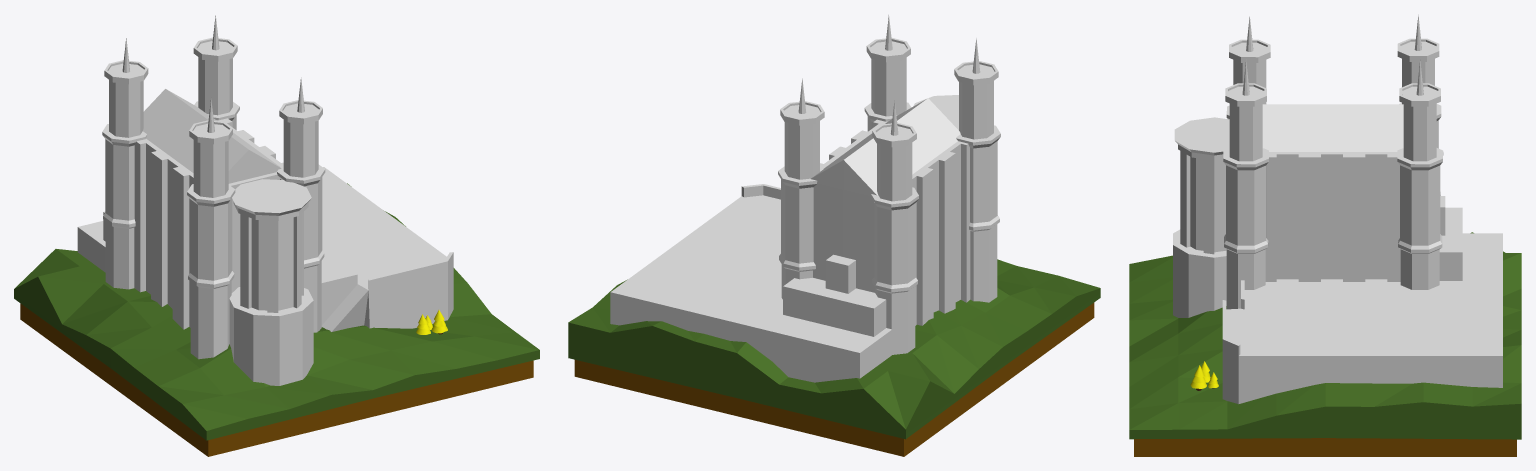
Rendered from fourviere_noplan.glb.
3 renders of one model, left to right at view 1: azimuth 30°, elevation 25°; view 2: azimuth 150°, elevation 25°; view 3: azimuth 270°, elevation 25°, orthographic.
Visible parts, largest first — view 1: Map, Main Tower, Batiment, Tower.001, Tower.003, Tower, Tower.002; view 2: Map, Main Tower, Batiment, Tower.003, Tower.001, Tower.002, Tower; view 3: Main Tower, Map, Batiment, Tower, Tower.002, Tower.003, Tower.001.
Part boxes in pixels (left/top/right/bottom): Map: left=14, top=183, right=539, bottom=456; Main Tower: left=77, top=167, right=453, bottom=385; Batiment: left=134, top=89, right=283, bottom=329; Tower.001: left=187, top=97, right=235, bottom=359; Tower.003: left=102, top=38, right=148, bottom=289; Tower: left=277, top=77, right=325, bottom=332; Tower.002: left=193, top=15, right=239, bottom=129; Map: left=568, top=259, right=1100, bottom=456; Main Tower: left=610, top=95, right=958, bottom=382; Batiment: left=811, top=98, right=970, bottom=325; Tower.003: left=871, top=100, right=918, bottom=354; Tower.001: left=954, top=38, right=1000, bottom=302; Tower.002: left=778, top=78, right=824, bottom=299; Tower: left=864, top=15, right=911, bottom=131; Main Tower: left=1173, top=117, right=1502, bottom=403; Map: left=1129, top=232, right=1521, bottom=456; Batiment: left=1262, top=104, right=1403, bottom=281; Tower: left=1223, top=59, right=1268, bottom=309; Tower.002: left=1397, top=60, right=1443, bottom=289; Tower.003: left=1397, top=14, right=1441, bottom=195; Tower.001: left=1226, top=16, right=1270, bottom=119.
Size of the model in its own units: 12.29 by 10.71 by 12.29.
3 materials, 2 textured.
